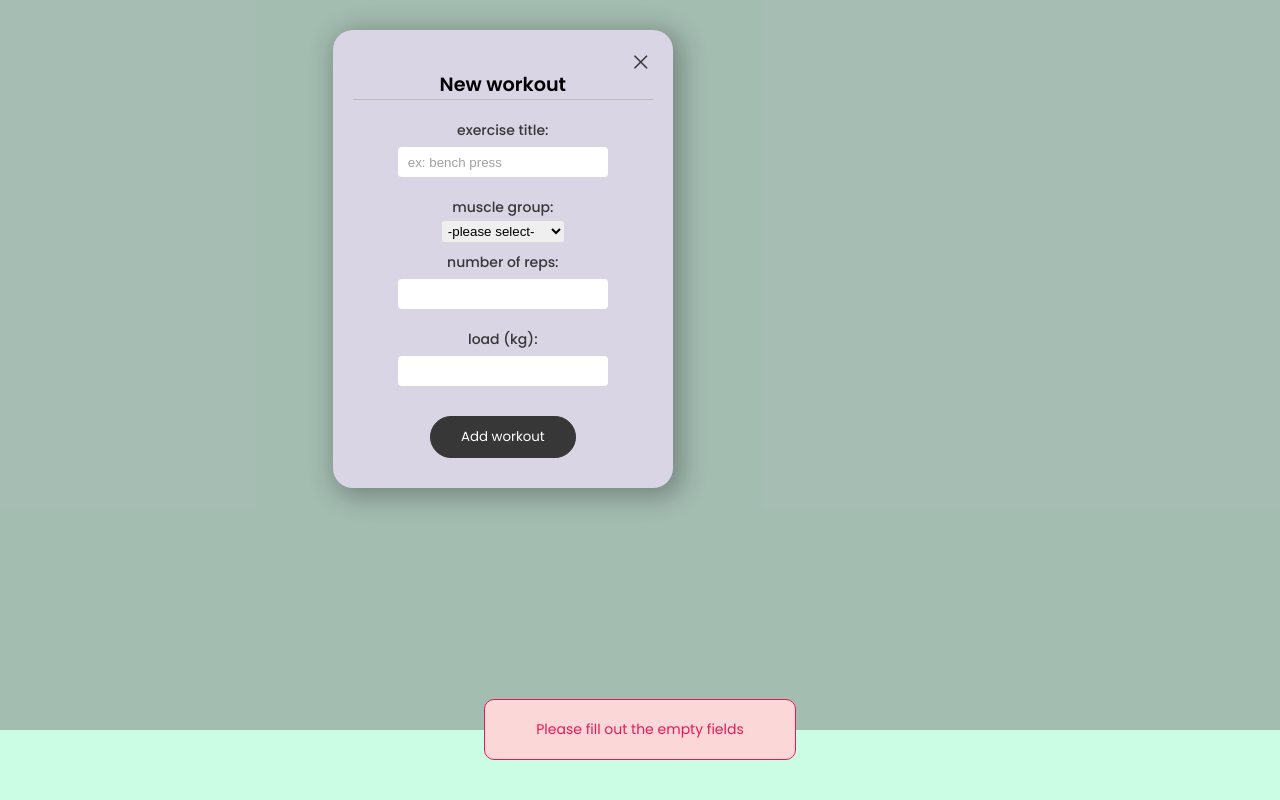
Test: <WorkoutForm/> › should render an input error if the title input value is too long
Type "adasdaasdsdfsdfdddfdfsdfsfsdfsfddsfsfsfsdfterttrtee" into the field with test id "title" at [503, 162], box [398, 147, 608, 177]
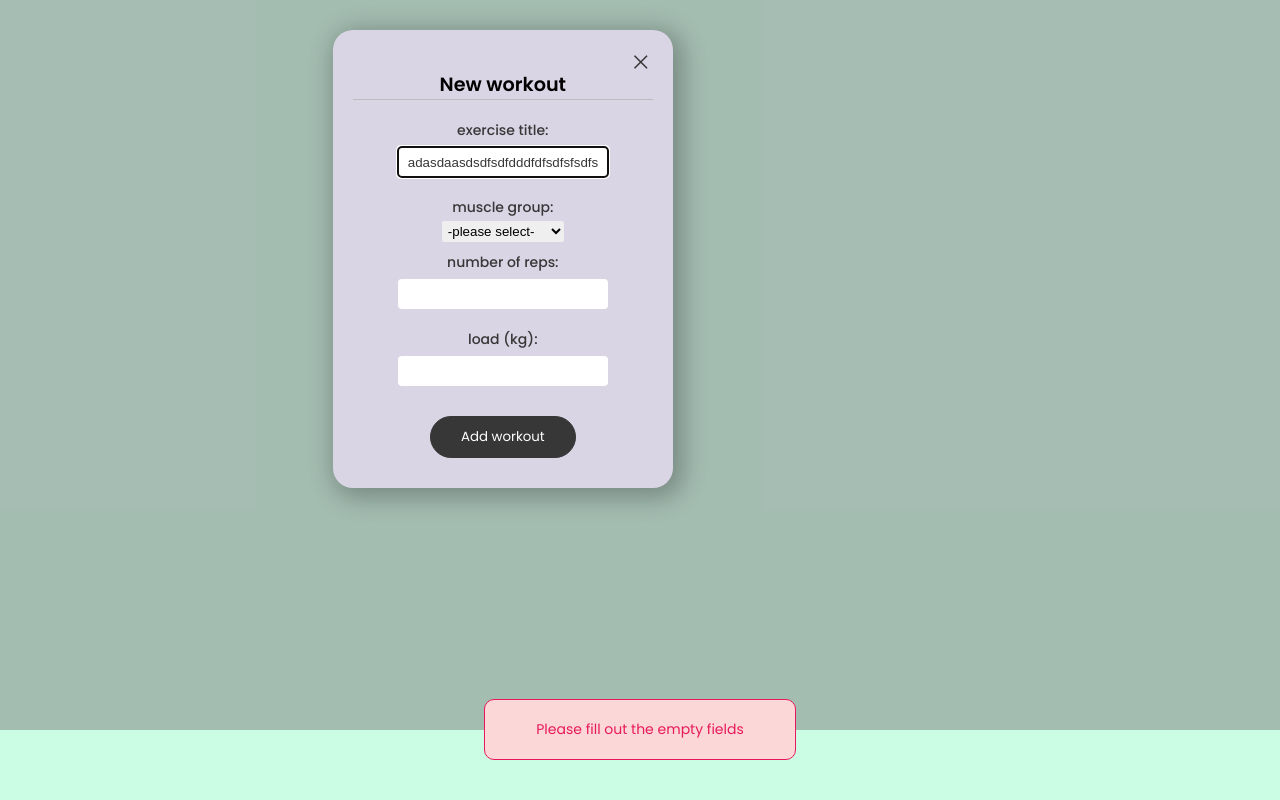
Select "biceps" in the dropdown with test id "muscle_group" at [503, 232], box [442, 221, 564, 242]
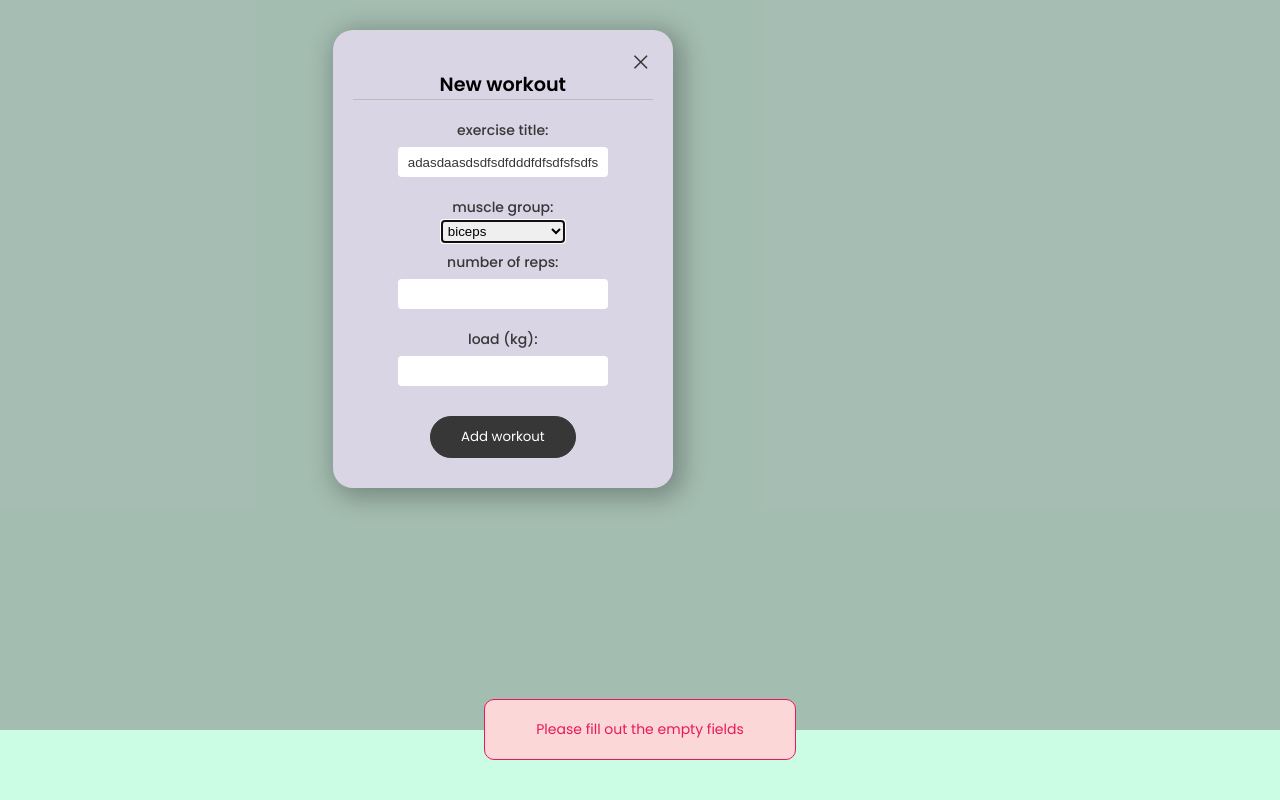
Type "22" into the number field with test id "reps" at [503, 294], box [398, 279, 608, 309]
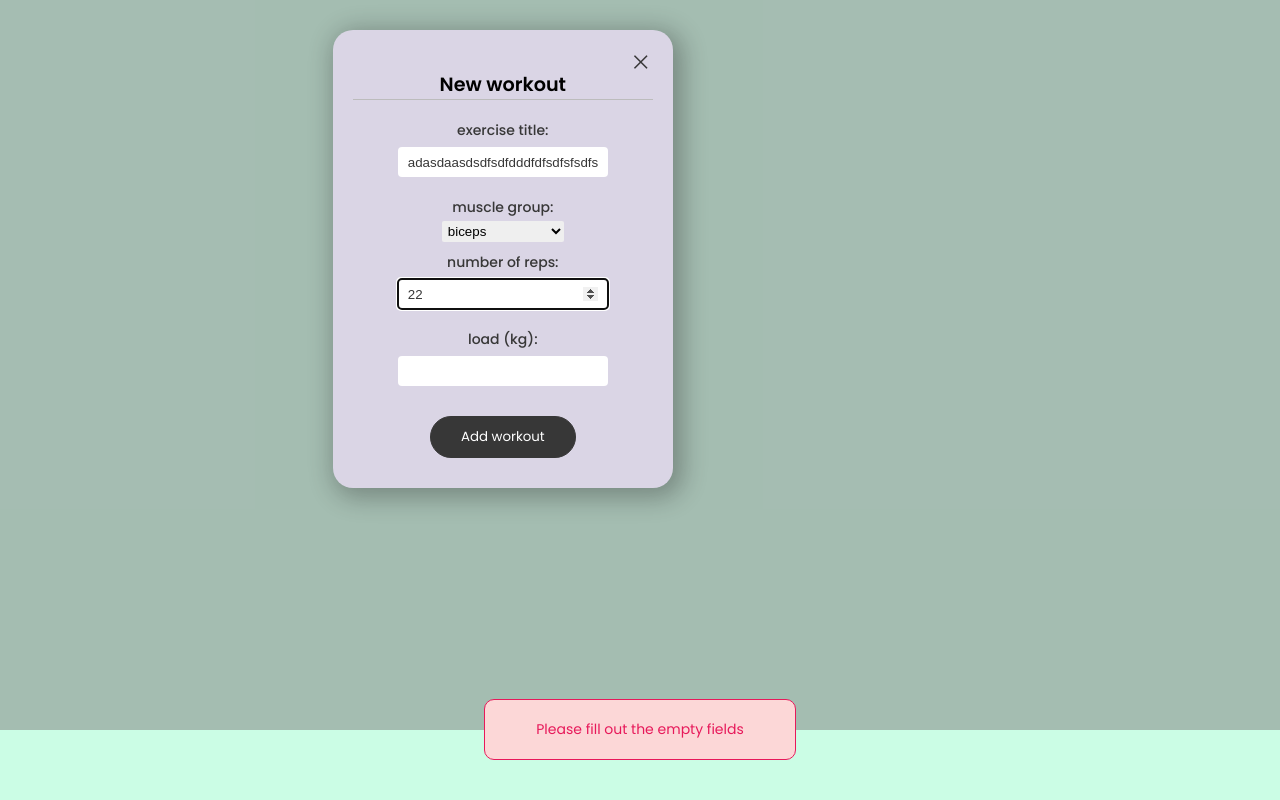
Type "22" into the number field with test id "load" at [503, 371], box [398, 356, 608, 386]
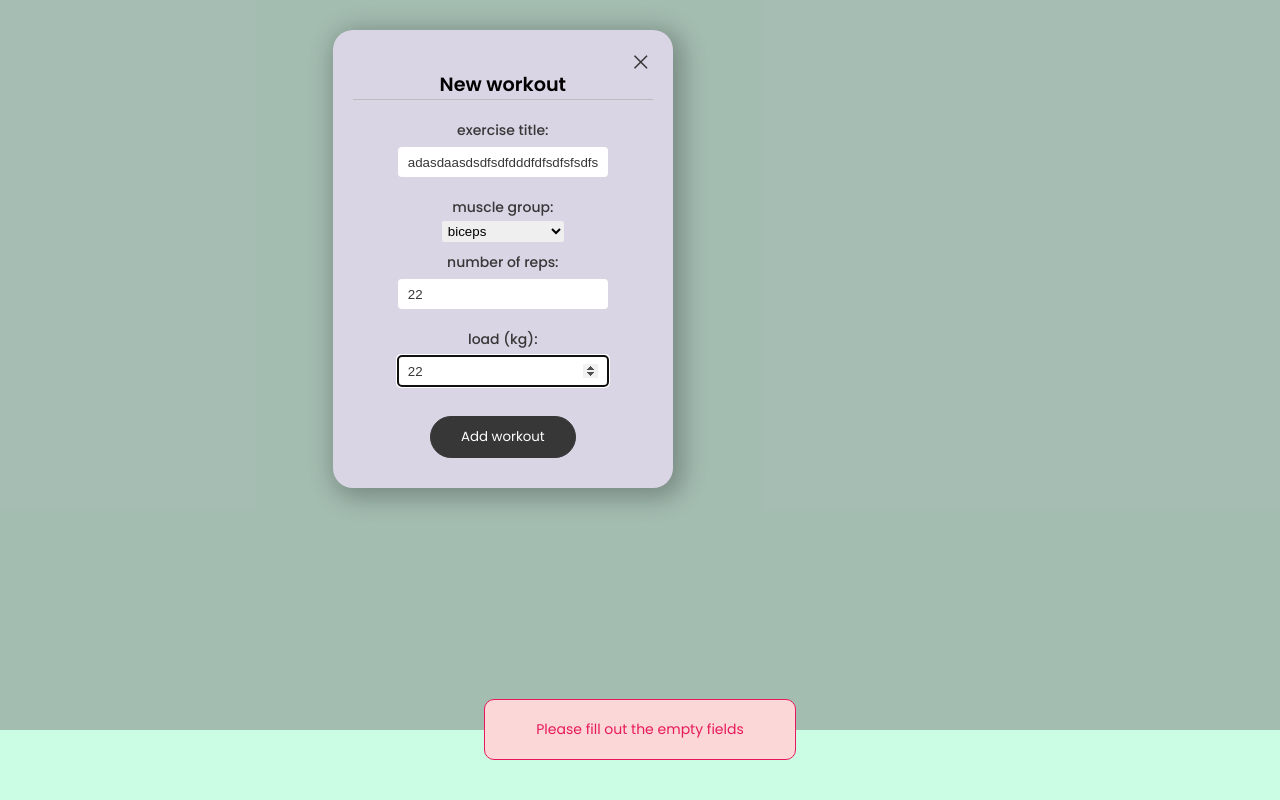
Click the button "Add workout" at [503, 437], box [430, 416, 576, 458]
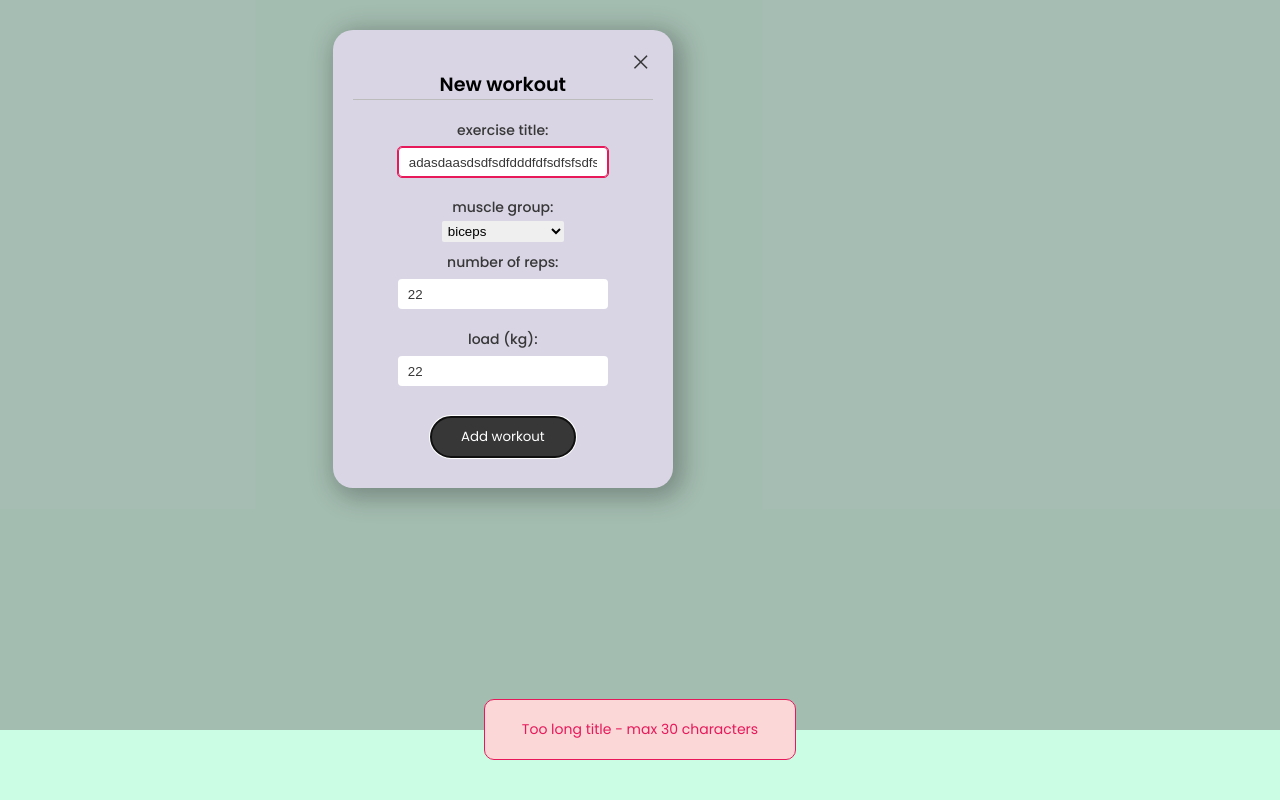
Check: the message "Too long title - max 30 characters" is shown, box [484, 699, 796, 760]
Check: the message shows "max 30 characters", box [522, 719, 758, 739]
